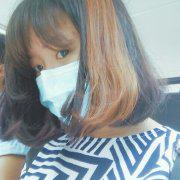OK: (18, 33, 118, 133)
